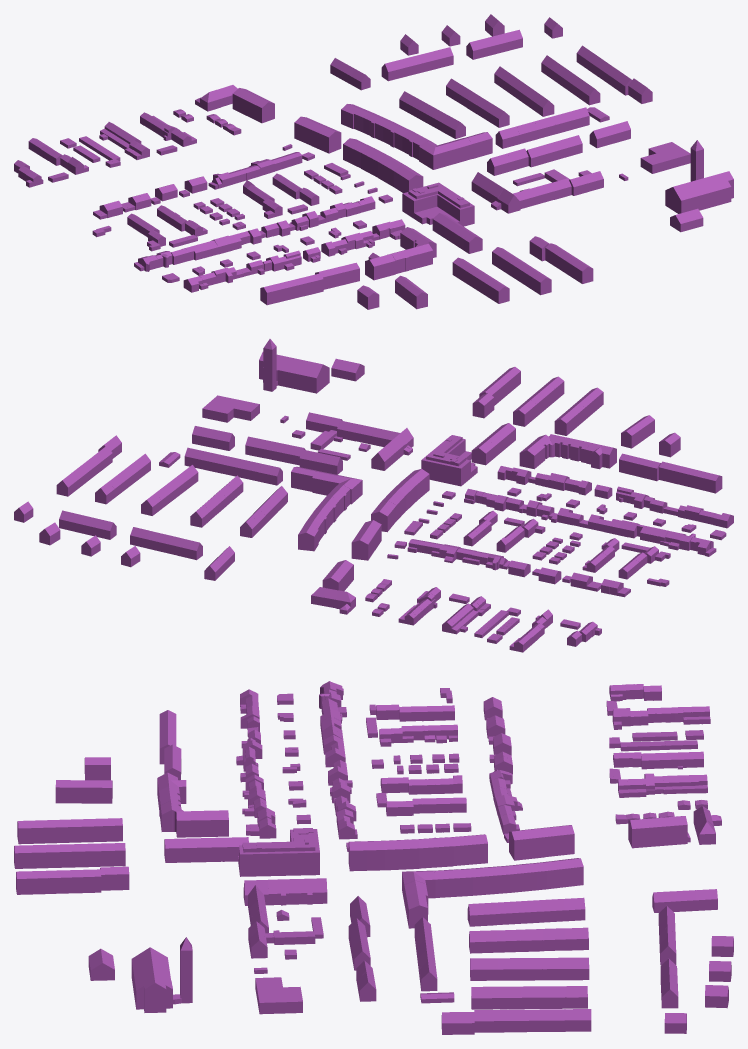
The model's file is mw_building.glb.
3 renders of one model, top to bottom at view 1: azimuth 30°, elevation 25°; view 2: azimuth 150°, elevation 25°; view 3: azimuth 270°, elevation 25°, orthographic. The views are drawn at different scales.
Parts seen in each view (by area): view 1: world; view 2: world; view 3: world.
Boxes of the visible parts, bbox=[...] form: world: bbox=[14, 14, 733, 309]; world: bbox=[14, 339, 733, 652]; world: bbox=[14, 681, 733, 1034].
Bounding box in the file's own units: 455 × 39.9 × 405.
